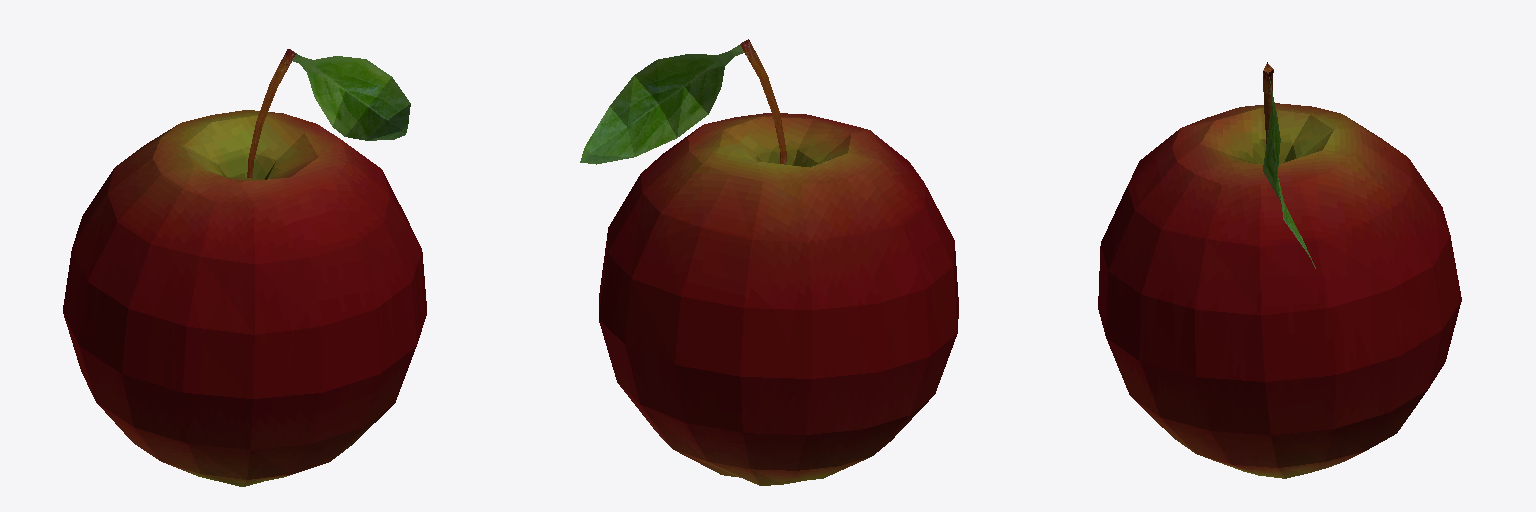
The picture shows the model from 3 angles: view 1: azimuth 30°, elevation 25°; view 2: azimuth 150°, elevation 25°; view 3: azimuth 270°, elevation 25°; orthographic projection.
Visible parts, largest first — view 1: submesh_0, stem; view 2: submesh_0, stem; view 3: submesh_0, stem.
Part boxes in pixels (bbox=[...]): submesh_0: bbox=[63, 110, 426, 486]; stem: bbox=[247, 49, 410, 178]; submesh_0: bbox=[599, 113, 958, 485]; stem: bbox=[580, 39, 796, 165]; submesh_0: bbox=[1098, 103, 1461, 478]; stem: bbox=[1263, 62, 1315, 268].
Size of the model in its own units: 2.36 by 2.75 by 2.2.
Materials: 2 (2 with a texture image).